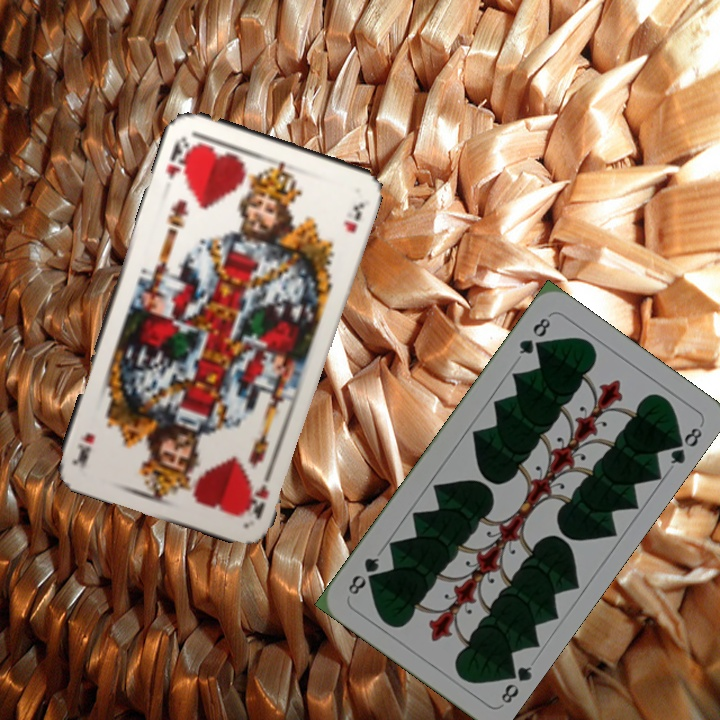G8: (497, 660, 535, 708), (515, 313, 553, 357)
HK: (244, 465, 275, 522), (161, 132, 195, 182)
